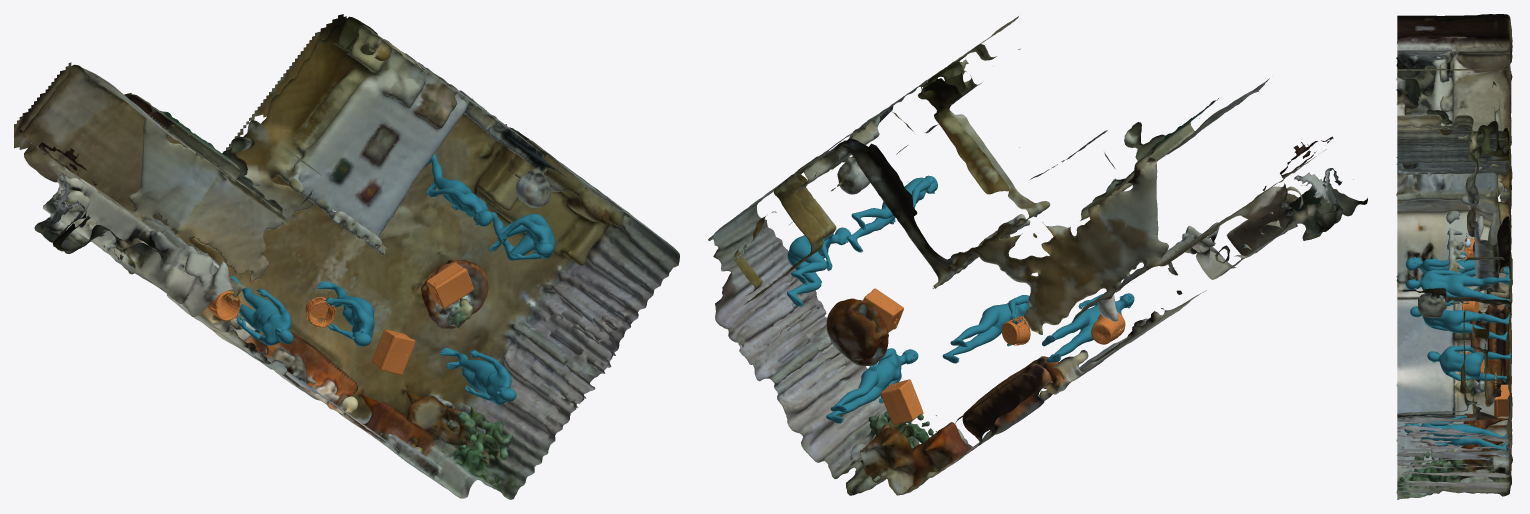
The model's file is room-2922.glb.
3 renders of one model, left to right at view 1: azimuth 30°, elevation 25°; view 2: azimuth 150°, elevation 25°; view 3: azimuth 270°, elevation 25°, orthographic. The views are drawn at different scales.
Visible parts, largest first — view 1: scene_scan, world, display_floor, human_0, human_2, human_3, human_1, human_4; view 2: scene_scan, world, human_0, human_3, human_1, human_2, human_4; view 3: scene_scan, human_4, human_3, human_1, human_0, human_2, world.
Boxes of the visible parts, x1,y1,x2,y2 form: scene_scan: (19, 16, 679, 499); world: (207, 262, 474, 375); display_floor: (14, 14, 506, 151); human_0: (440, 348, 516, 404); human_2: (230, 276, 293, 345); human_3: (488, 212, 554, 260); human_1: (317, 281, 374, 346); human_4: (425, 154, 492, 226); scene_scan: (708, 14, 1367, 495); world: (863, 288, 1125, 425); human_0: (826, 348, 918, 423); human_3: (787, 227, 851, 306); human_1: (942, 295, 1029, 363); human_2: (1042, 293, 1134, 362); human_4: (847, 175, 937, 252); scene_scan: (1396, 14, 1512, 499); human_4: (1406, 270, 1510, 306); human_3: (1427, 346, 1511, 382); human_1: (1410, 300, 1509, 340); human_0: (1404, 415, 1507, 450); human_2: (1406, 252, 1509, 284); world: (1462, 237, 1509, 417).
Bounding box in the file's own units: 8.7 × 6.27 × 1.93.
